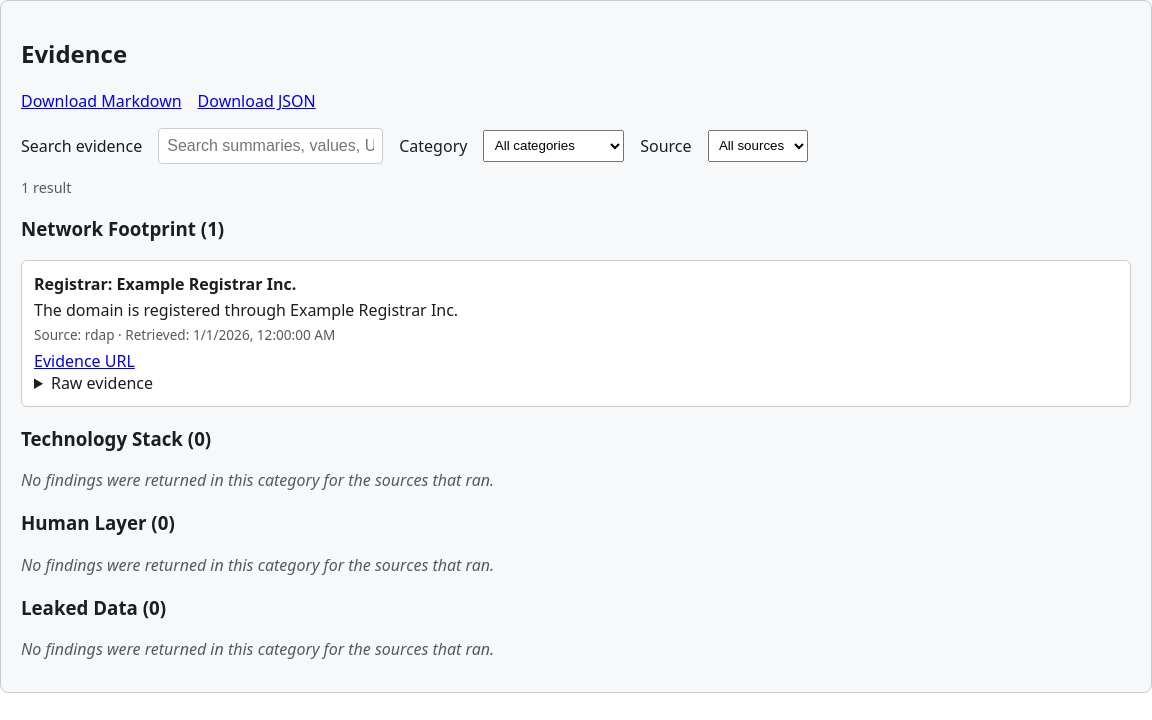
Test: FindingsView › distinguishes 'no findings match filters' from 'no findings in the job'
expect the heading "Network Footprint (1)" is shown: met, box [21,216,224,241]
Type "nothing-like-this" into the field labelled "Search evidence". click: (271, 146)
box: [158,128,383,164]
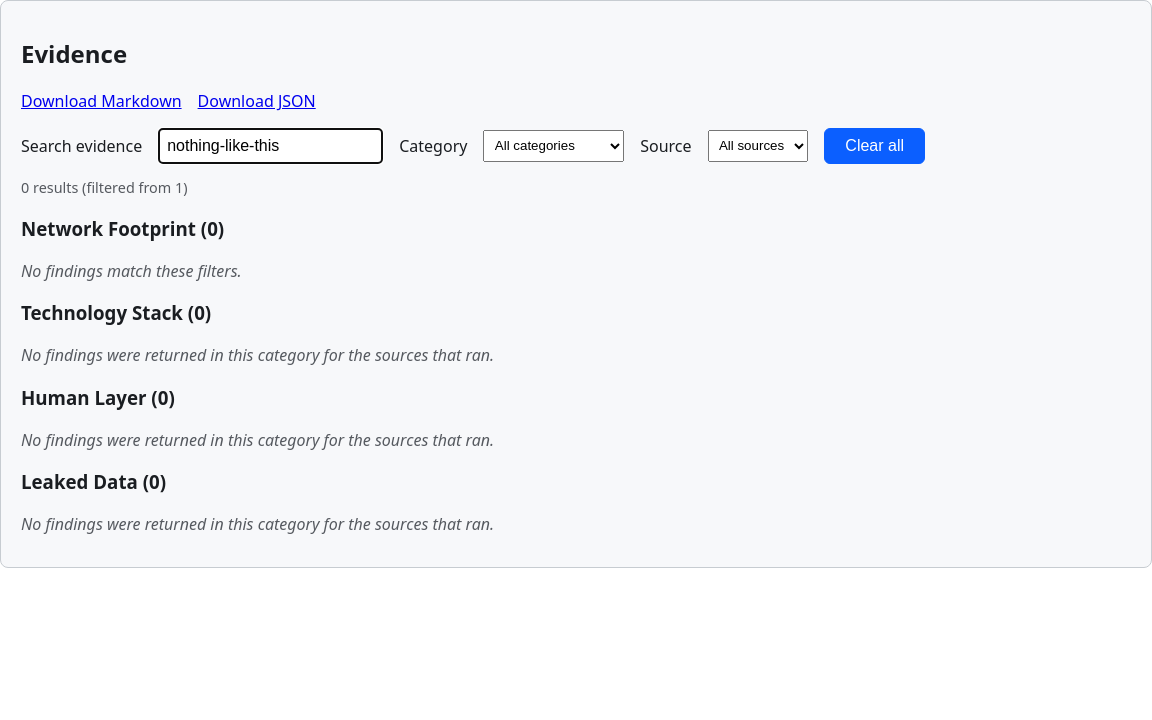
expect the text "No findings match these filters." is shown: met, box [21,260,242,282]
